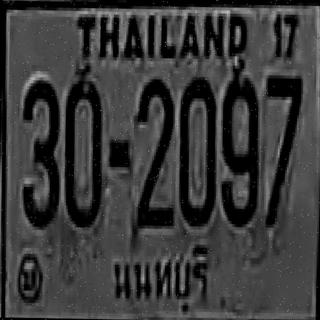N00: (176, 74, 216, 224), (63, 74, 102, 224)
N02: (134, 78, 174, 228)
N03: (20, 77, 60, 227)
N07: (262, 72, 302, 225)
N09: (219, 72, 258, 222)
P37: (104, 240, 217, 311)
